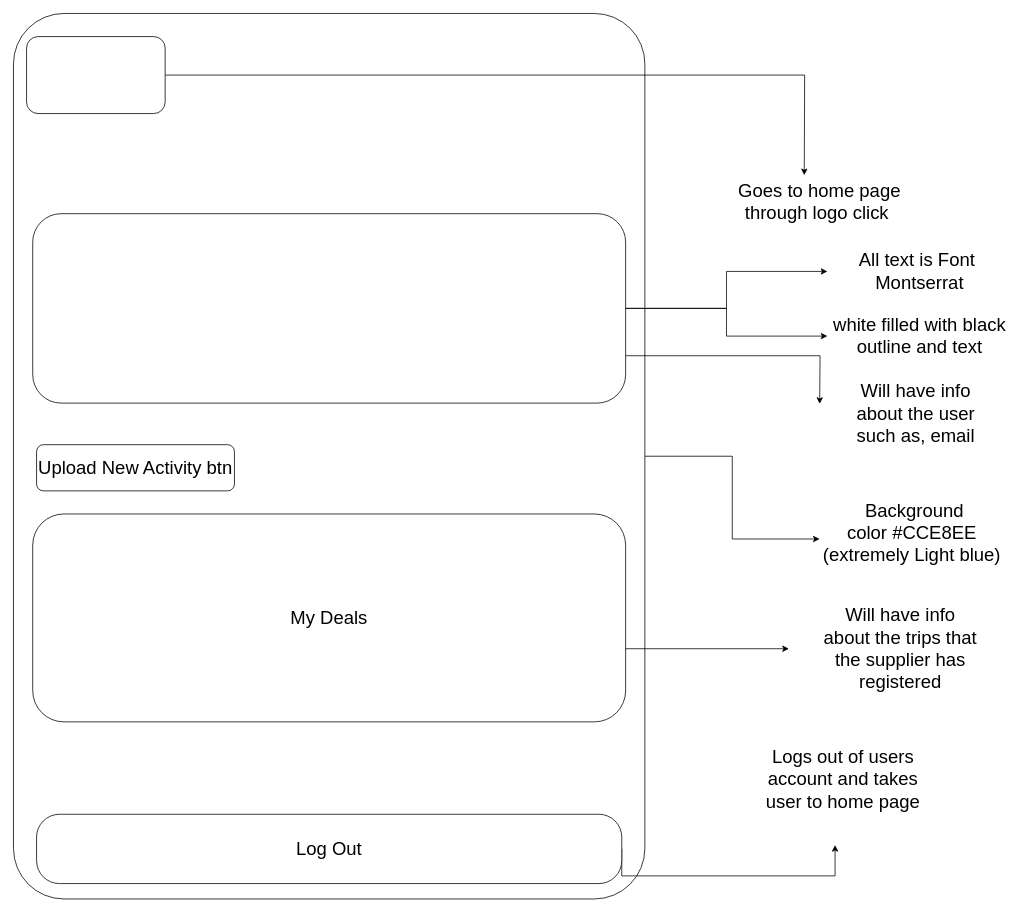
Image size: 1026x912. Some labels were removed from this diagram. Each missing label, with the centre of its shape:
IMG BTN Logo: (95,75)
User Information: (329,308)
